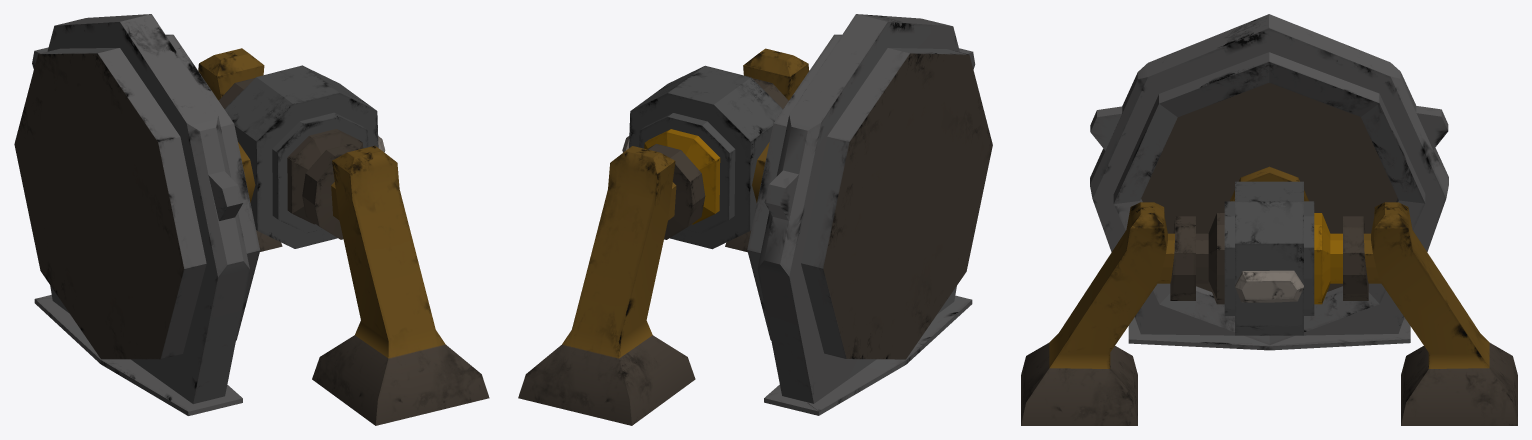
The model's file is Machine_Déco_2.fbx.
The picture shows the model from 3 angles, left to right: view 1: azimuth 30°, elevation 25°; view 2: azimuth 150°, elevation 25°; view 3: azimuth 270°, elevation 25°; orthographic projection. The views are drawn at different scales.
Parts seen in each view (by area): view 1: polySurface83; view 2: polySurface83; view 3: polySurface83.
Boxes of the visible parts, x1=… form: polySurface83: x1=14, y1=14, x2=489, y2=425; polySurface83: x1=518, y1=14, x2=992, y2=425; polySurface83: x1=1021, y1=14, x2=1517, y2=425.
Size of the model in its own units: 5.79 by 6.85 by 9.95.
